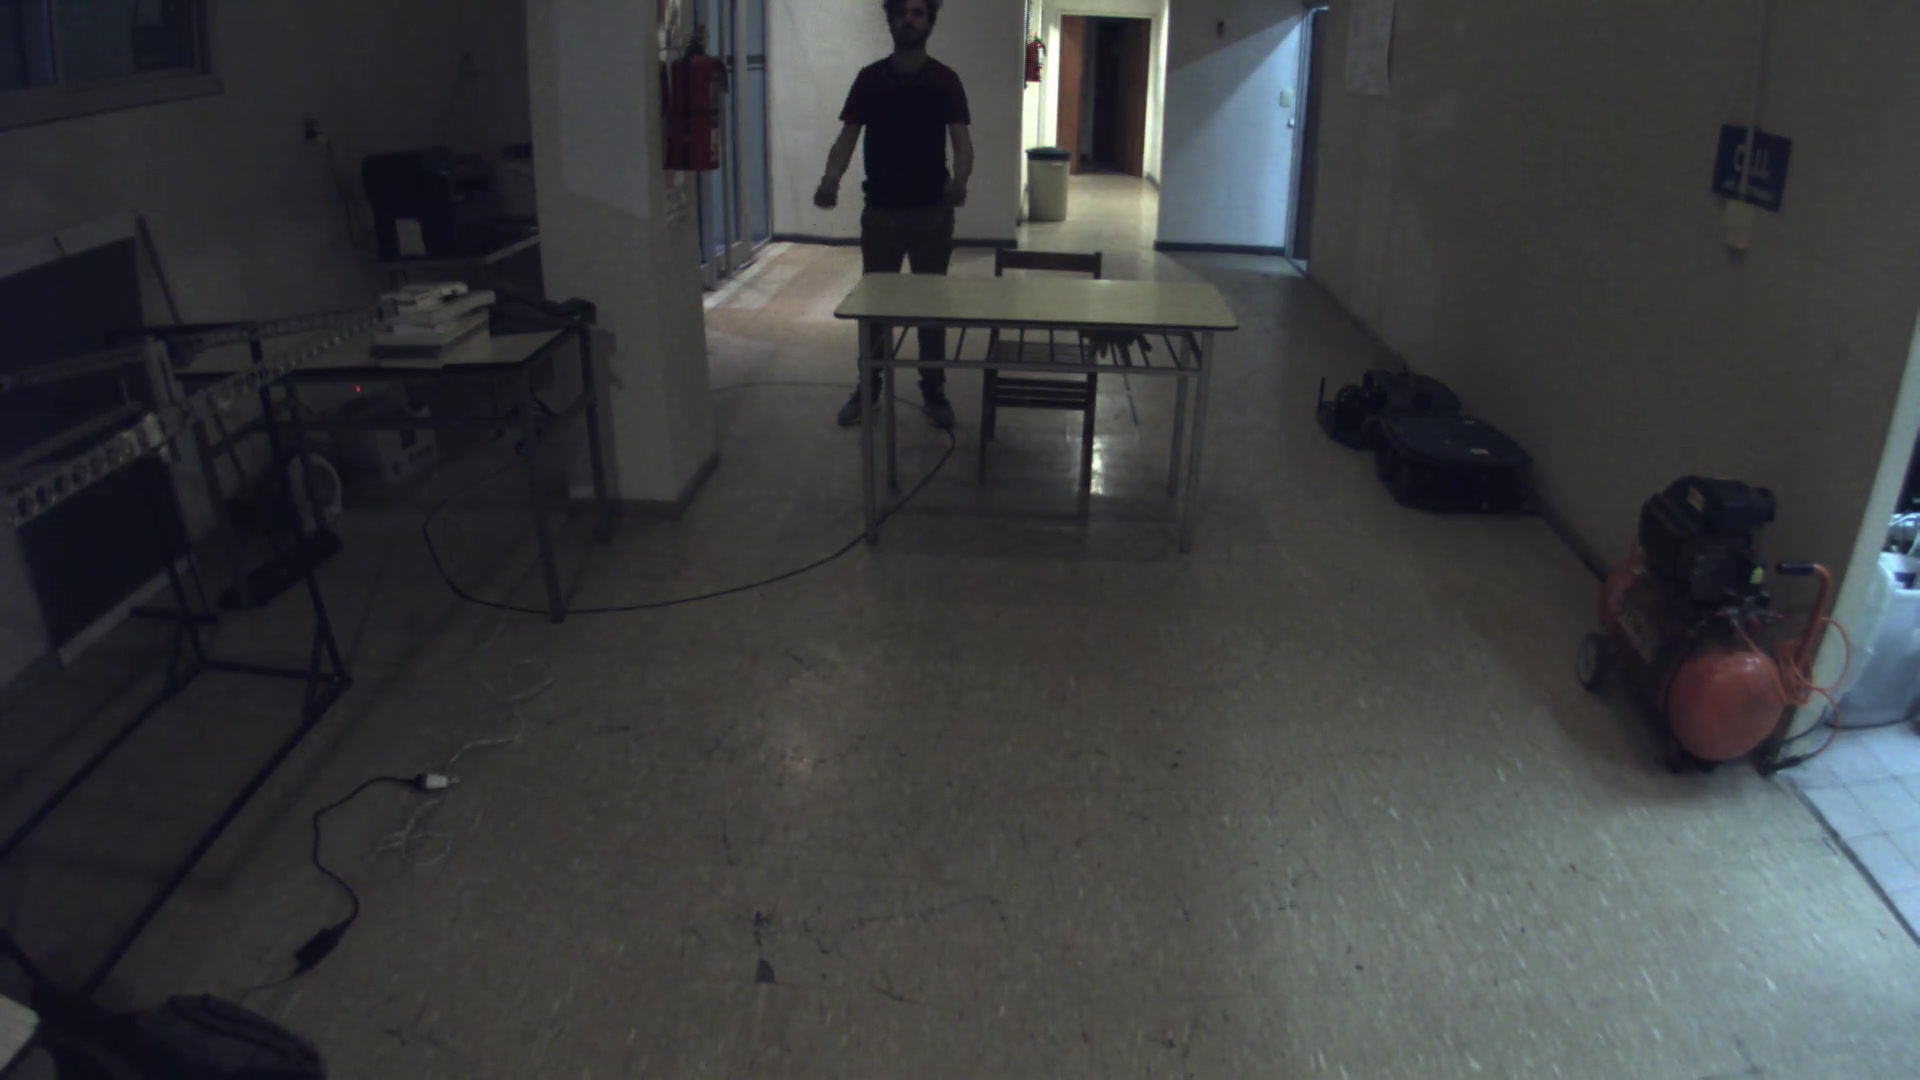hand: (932, 171, 988, 222), (800, 171, 855, 214)
